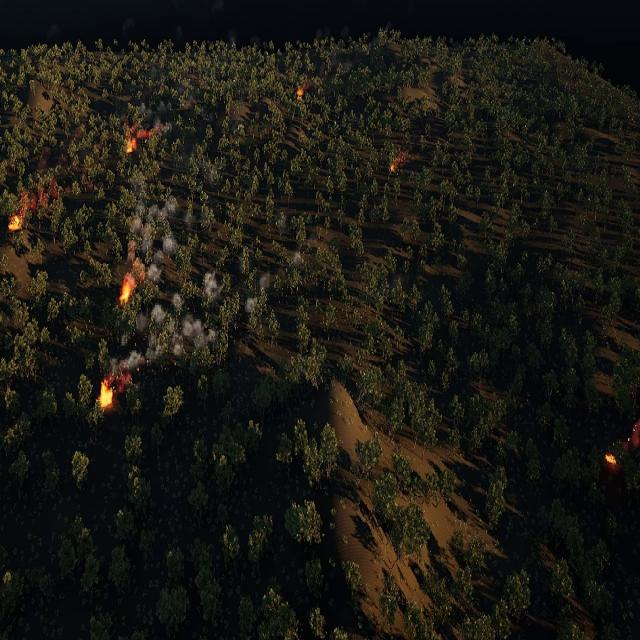fire: (100, 380, 114, 407), (119, 278, 131, 303), (8, 214, 21, 231), (604, 454, 617, 468), (128, 135, 138, 153), (296, 88, 304, 100), (390, 162, 395, 173)
smoke: (112, 293, 218, 360), (126, 183, 195, 282), (110, 351, 144, 390), (140, 95, 173, 135), (316, 25, 352, 61), (246, 271, 273, 313), (21, 183, 54, 215), (625, 423, 640, 454), (204, 273, 222, 297), (394, 147, 414, 168), (148, 63, 166, 84), (206, 170, 223, 185), (290, 252, 304, 266), (228, 30, 240, 44), (303, 80, 312, 91)
